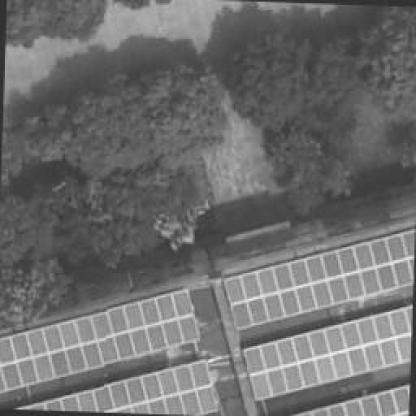solar-pv-panel: (0, 290, 199, 393), (224, 230, 415, 331), (243, 306, 413, 401), (20, 360, 217, 416), (294, 385, 410, 416)
